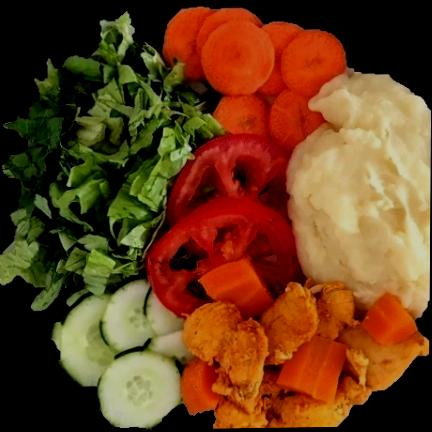carrot: (164, 7, 347, 150)
chicken: (183, 281, 428, 428)
cucumber: (52, 276, 189, 428)
potato: (287, 72, 430, 316)
salad: (0, 13, 223, 309)
tomato: (145, 134, 301, 315)
